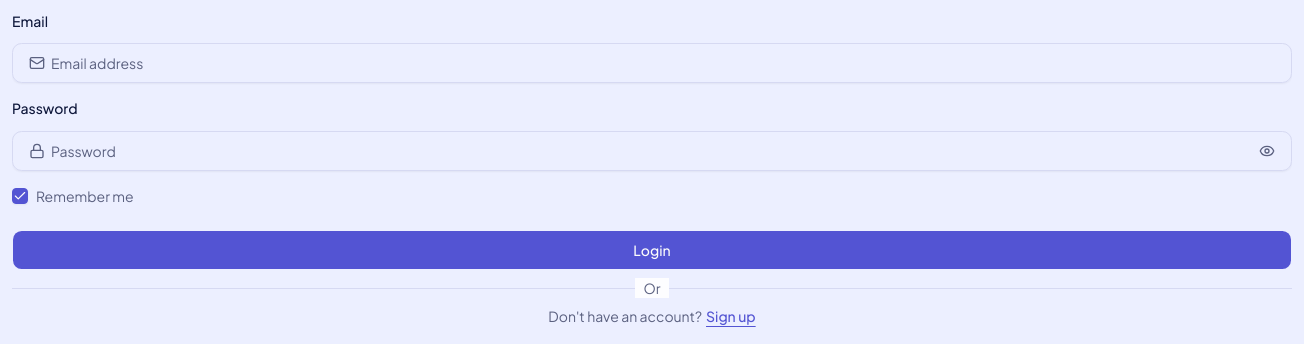
it: LoginForm › rememberMe di-uncheck: nilai false ikut terkirim
This screenshot has width=1304, height=344.
Later steps or results of the test are not shown.
Type "user@mail.com" into the field labelled "Email". click: point(664, 63)
box: [45, 45, 1283, 81]
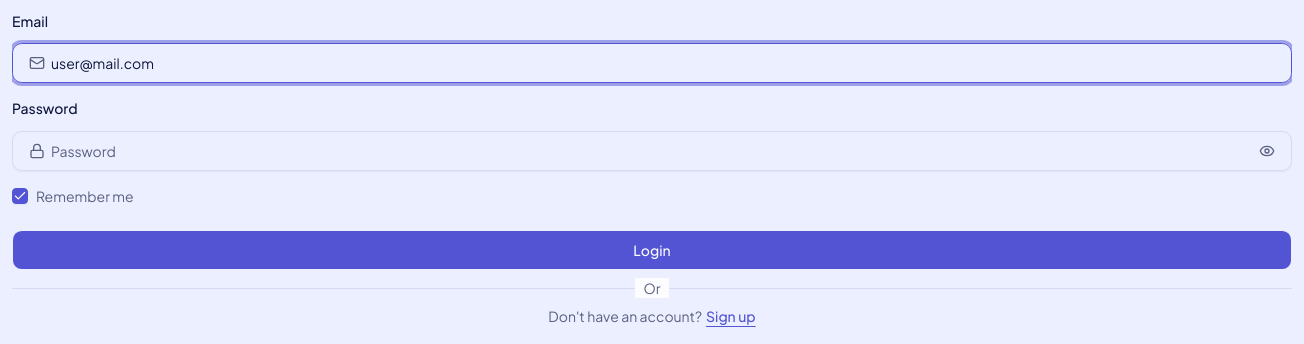
Type "secret123" into the password field labelled "Password". click: point(650, 150)
box: [45, 132, 1255, 168]
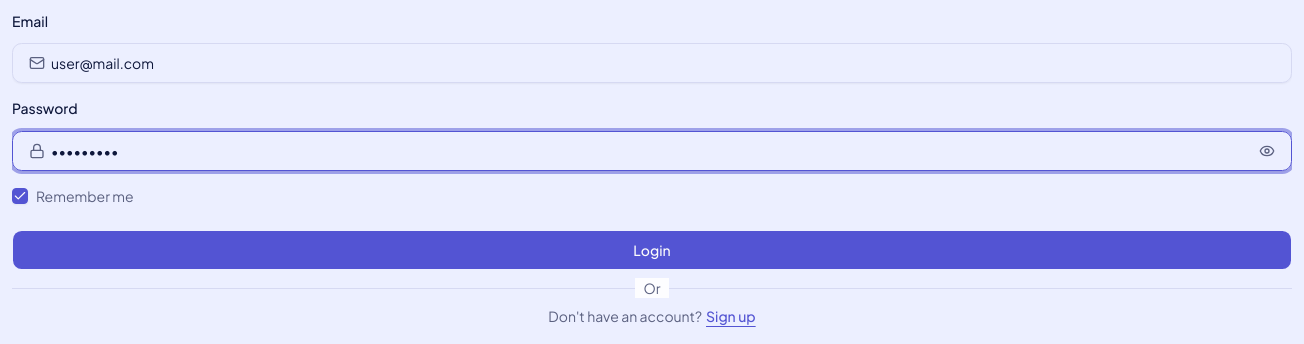
Click the checkbox "Remember me". click: point(85, 196)
box: [36, 186, 134, 204]
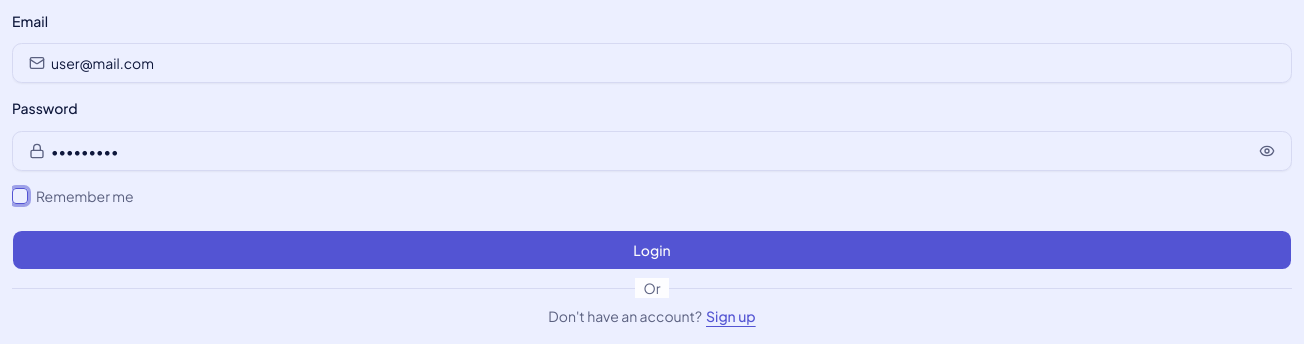
Check: the 1st checkbox is not checked, box [12, 188, 28, 204]
